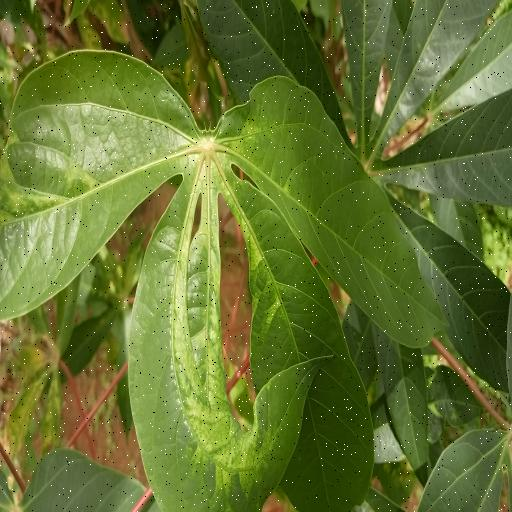Cassava_Mosaic: (0, 46, 451, 512)
